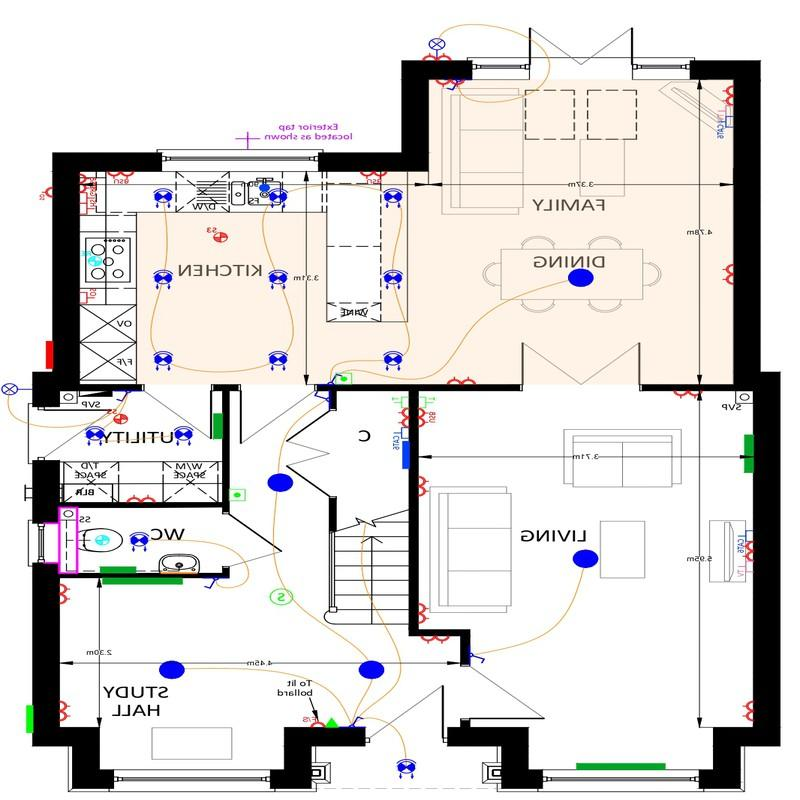BT Entry Point: (325, 714, 342, 731)
Cat 6 Data Socket: (713, 114, 734, 139), (389, 425, 412, 442), (738, 530, 758, 544)
Ceiling Mounted Continuous Extract Fan With Boost Mode Activated By Light Switch: (94, 530, 112, 551)
Ceiling Mounted Continuous Extract Fan With Local Boost Switch: (201, 226, 233, 247), (105, 408, 132, 427)
Co-Ax TV Socket: (705, 101, 739, 115), (735, 559, 753, 581)
Consumer Unit: (76, 385, 114, 398)
Double Socket: (438, 371, 487, 388), (52, 695, 75, 727), (52, 577, 75, 608), (121, 492, 161, 507), (669, 389, 705, 403), (719, 259, 734, 290), (420, 50, 455, 63), (415, 473, 430, 503), (719, 82, 737, 106), (421, 631, 449, 646), (414, 599, 429, 627), (433, 78, 463, 90), (736, 542, 755, 560), (392, 409, 409, 427), (744, 696, 754, 725)
Electric Meter Box: (43, 335, 56, 371)
External Wall Light: (1, 377, 34, 405), (425, 37, 453, 61)
Fused spur: (298, 712, 328, 732)
Gas Meter Box: (20, 702, 35, 742)
Hob Switch: (77, 203, 100, 217)
Light Switch: (323, 369, 354, 386), (468, 642, 484, 670), (447, 76, 466, 98), (200, 576, 224, 592), (313, 387, 334, 405), (111, 389, 133, 406), (346, 715, 366, 728)
Low Energy Downlighter: (262, 343, 295, 376), (393, 749, 419, 784), (149, 262, 177, 294), (148, 184, 178, 213), (378, 187, 408, 215), (265, 265, 291, 296), (380, 345, 402, 381), (170, 421, 193, 452), (150, 348, 177, 374), (81, 423, 107, 450), (266, 189, 293, 215), (127, 532, 155, 556), (377, 270, 408, 291)
Low Energy Pendant Light: (560, 265, 598, 296), (351, 657, 390, 683), (156, 658, 191, 684), (264, 471, 294, 496), (569, 547, 601, 568)
Mains Wired Smoke Detector: (270, 586, 293, 609)
Outside Socket: (31, 181, 55, 205)
Outside Tap: (234, 124, 260, 148)
Oven Switch: (74, 290, 99, 306), (71, 192, 105, 202)
Programmable Room Thermostat: (227, 488, 249, 503)
Radiator: (567, 760, 671, 773), (100, 573, 186, 586), (737, 430, 756, 477), (207, 407, 234, 437), (94, 560, 146, 571)
Recirculating Extractor Fan: (78, 248, 106, 272)
Telephone Socket: (386, 392, 410, 412), (418, 392, 443, 407)
USB Double Socket: (105, 169, 139, 184), (357, 169, 393, 183), (413, 406, 432, 428), (79, 172, 99, 191)
Underfloor Heating Manifold: (399, 437, 408, 470)
